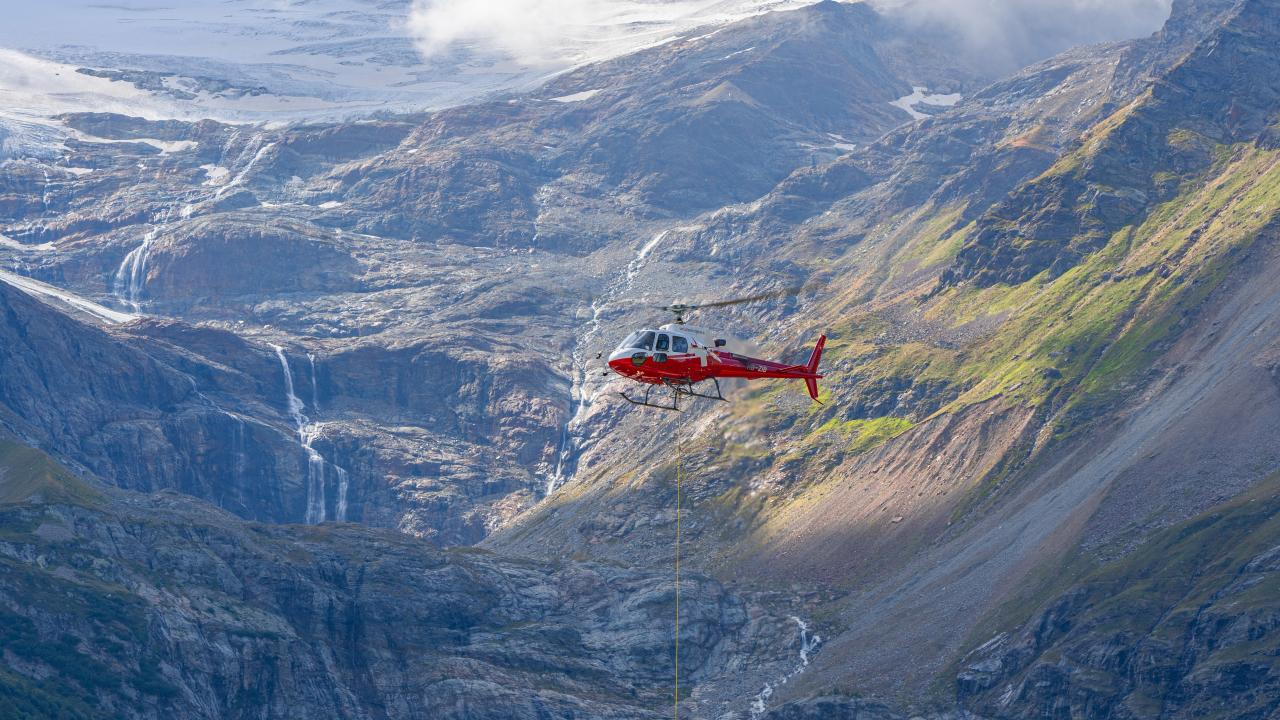Helicopter: (588, 282, 846, 428)
